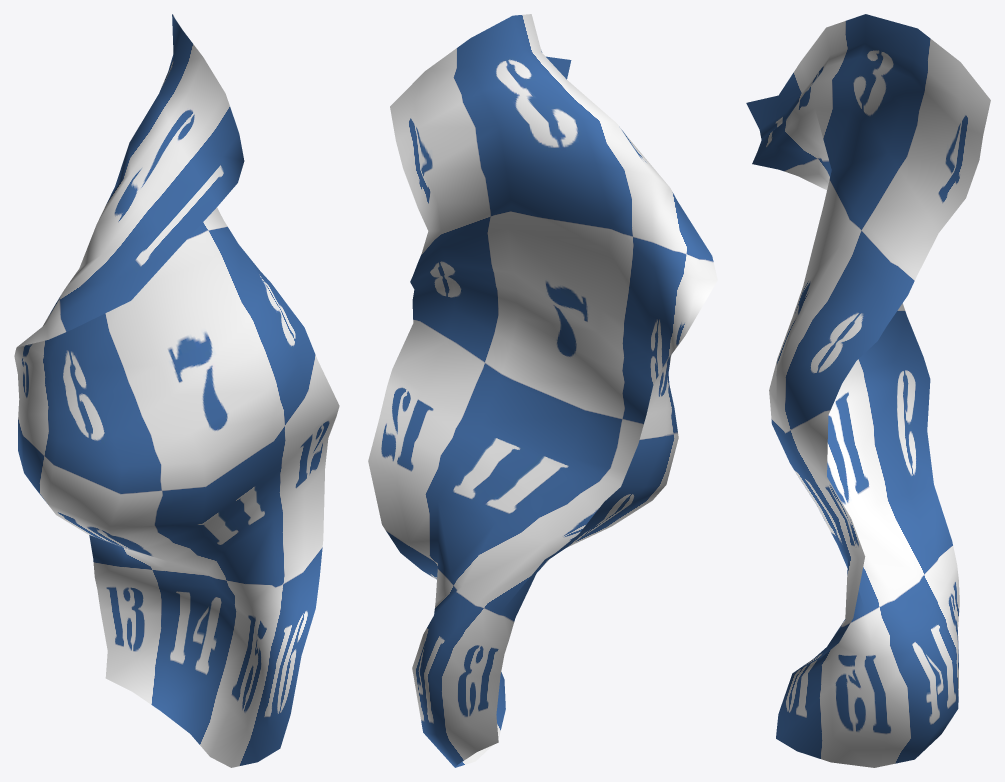
The model's file is Twist2.fbx.
3 views of the same model, side by side, from view 1: azimuth 30°, elevation 25°; view 2: azimuth 150°, elevation 25°; view 3: azimuth 270°, elevation 25° (orthographic).
Parts seen in each view (by area): view 1: SM_e_Cmn_Twist002; view 2: SM_e_Cmn_Twist002; view 3: SM_e_Cmn_Twist002.
Boxes of the visible parts, x1=… form: SM_e_Cmn_Twist002: x1=14, y1=14, x2=339, y2=767; SM_e_Cmn_Twist002: x1=368, y1=14, x2=717, y2=767; SM_e_Cmn_Twist002: x1=746, y1=14, x2=990, y2=767.
Bounding box in the file's own units: 28.13 × 63.95 × 19.22.
